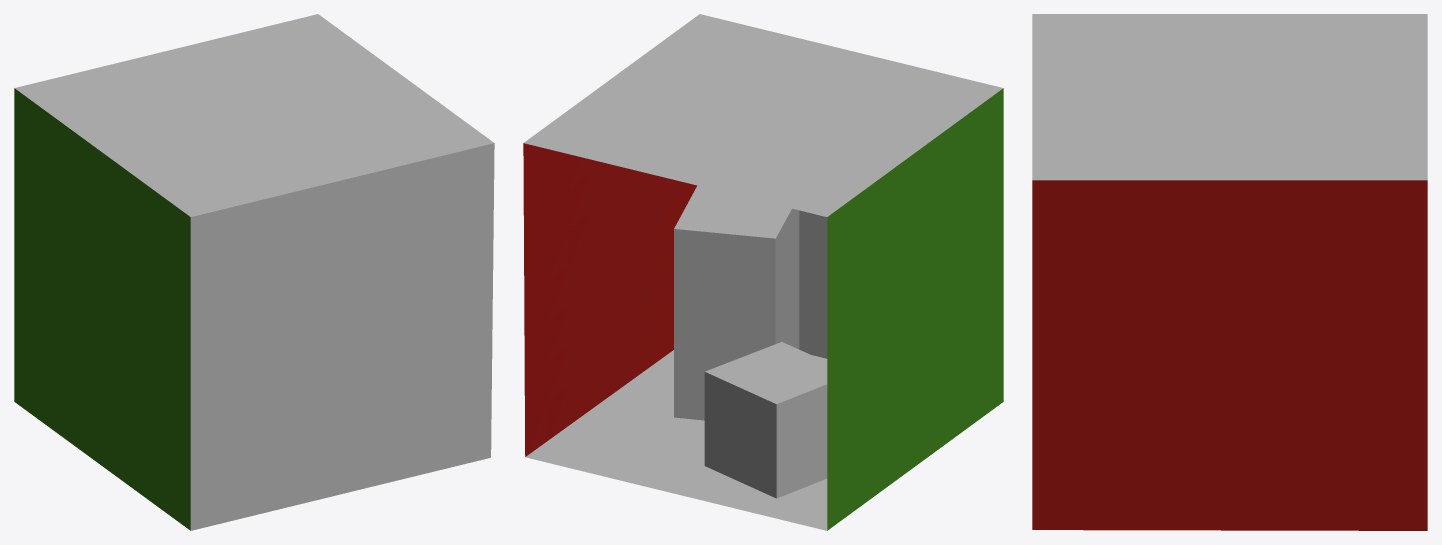
File: cornell_embree_tri_divs.obj
3 renders of one model, left to right at view 1: azimuth 30°, elevation 25°; view 2: azimuth 150°, elevation 25°; view 3: azimuth 270°, elevation 25°, orthographic. The views are drawn at different scales.
Visible parts, largest first — view 1: back_wall, green_wall, ceiling; view 2: green_wall, ceiling, red_wall, tall_block, floor, short_block, back_wall; view 3: red_wall, ceiling.
Part boxes in pixels (x1,y1,x2,y2): back_wall: [190, 143, 494, 530]; green_wall: [14, 88, 190, 530]; ceiling: [14, 14, 493, 216]; green_wall: [827, 88, 1003, 530]; ceiling: [524, 14, 1003, 216]; red_wall: [523, 143, 696, 456]; tall_block: [674, 185, 799, 420]; floor: [525, 350, 827, 530]; short_block: [704, 342, 827, 498]; back_wall: [799, 210, 827, 358]; red_wall: [1032, 180, 1427, 530]; ceiling: [1032, 14, 1427, 180].
Bounding box in the file's own units: 556 × 549 × 559.
